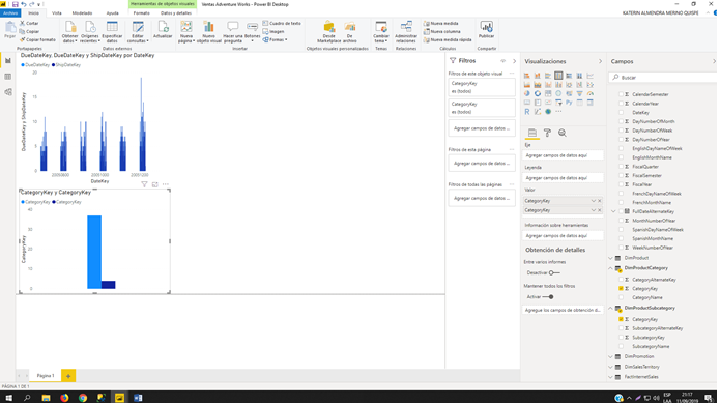

Layout of this report page (visuals, bound fields, positions):
{"tool":"powerbi","page":{"name":"Página 1","canvas":[1280,720],"ordinal":0},"visuals":[{"type":"clusteredColumnChart","fields":{"Y":["CountNonNull(FactInternetSales.DueDateKey)","CountNonNull(FactInternetSales.DueDateKey)","CountNonNull(FactInternetSales.ShipDateKey)"],"Category":["DimDate.DateKey"]},"box":[10.1,0,450.9,398.3],"z":0},{"type":"clusteredColumnChart","fields":{"Y":["CountNonNull(DimProductSubcategory.CategoryKey)","CountNonNull(DimProductCategory.CategoryKey)"]},"box":[461,0,483.4,360.3],"z":1000}]}

Visuals, with their boxes on the page's 1280x720 design canvas (x1, y1, x2, y2). These are canvas units, not pixel positions in the 717x403 screenshot, which may show the page scaled, cropped or inside an application window:
clusteredColumnChart - CountNonNull(FactInternetSales.DueDateKey) x CountNonNull(FactInternetSales.DueDateKey): [10,0,461,398]
clusteredColumnChart - CountNonNull(DimProductSubcategory.CategoryKey) x CountNonNull(DimProductCategory.CategoryKey): [461,0,944,360]
